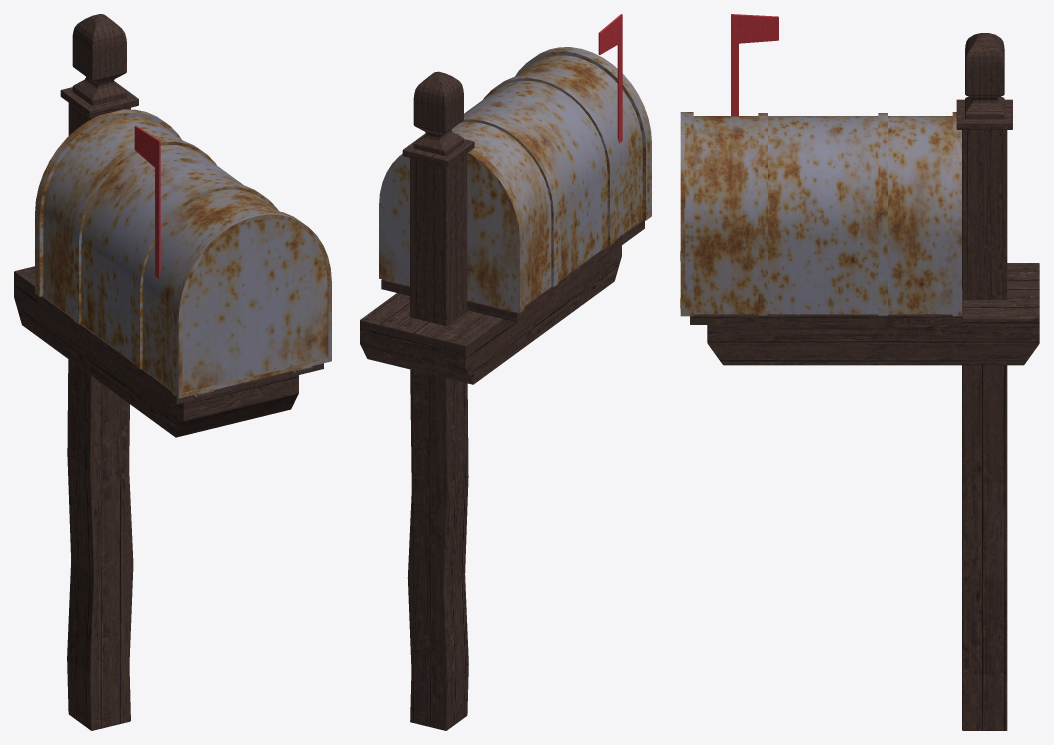
Rendered from updated-mailbox.glb.
The picture shows the model from 3 angles, left to right: view 1: azimuth 30°, elevation 25°; view 2: azimuth 150°, elevation 25°; view 3: azimuth 270°, elevation 25°; orthographic projection. The views are drawn at different scales.
Parts seen in each view (by area): view 1: mailboxPole, mailboxBody, mailboxDoor, mailboxFlag; view 2: mailboxPole, mailboxBody, mailboxFlag, mailboxDoor; view 3: mailboxBody, mailboxPole, mailboxFlag, mailboxDoor.
Boxes of the visible parts, <box> form: mailboxPole: <box>14,14,323,730</box>; mailboxBody: <box>35,109,303,396</box>; mailboxDoor: <box>176,213,331,398</box>; mailboxFlag: <box>134,126,160,278</box>; mailboxPole: <box>360,71,644,730</box>; mailboxBody: <box>379,48,650,312</box>; mailboxFlag: <box>598,14,622,143</box>; mailboxDoor: <box>539,47,651,217</box>; mailboxBody: <box>684,112,961,316</box>; mailboxPole: <box>690,33,1039,730</box>; mailboxFlag: <box>731,14,778,115</box>; mailboxDoor: <box>680,112,685,316</box>.
Size of the model in its own units: 0.4089 by 1.79 by 0.8494.
4 materials, 4 textured.
